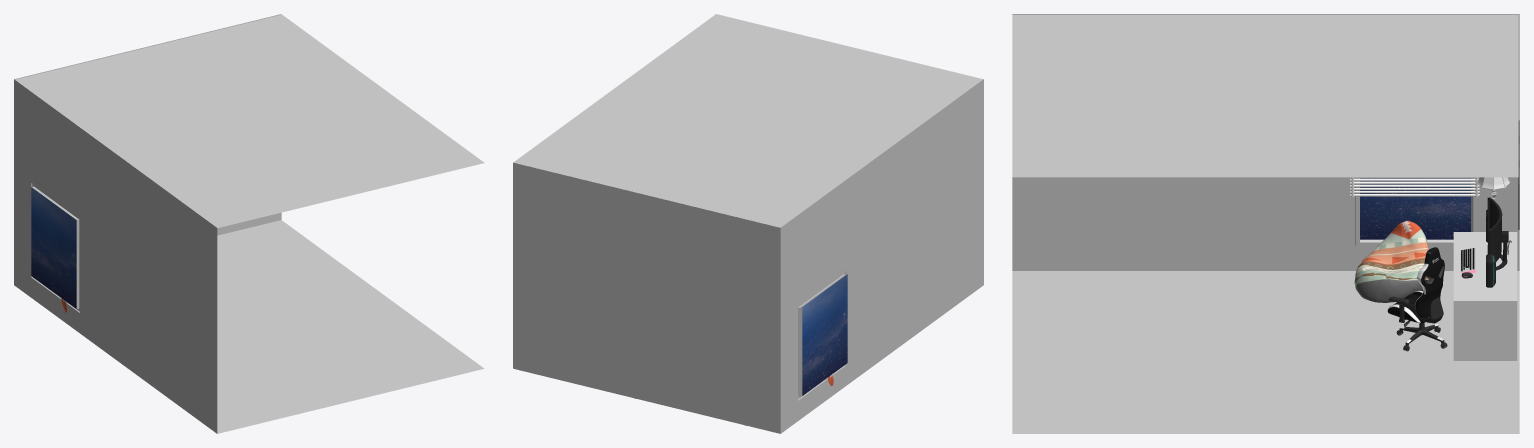
File: home_setup-transformed.glb
The picture shows the model from 3 angles, left to right: view 1: azimuth 30°, elevation 25°; view 2: azimuth 150°, elevation 25°; view 3: azimuth 270°, elevation 25°; orthographic projection. The views are drawn at different scales.
Visible parts, largest first — view 1: BUILDING_lambert1_0, BUILDING_GLASS_0; view 2: BUILDING_lambert1_0, BUILDING_GLASS_0; view 3: BUILDING_lambert1_0, BUILDING_GLASS_0, BEAN BAG.001_Goi_0, GAMING CHAIR_GAMING CHAIR_0.
Part boxes in pixels (x1,y1,x2,y2): BUILDING_lambert1_0: (14, 14, 484, 433); BUILDING_GLASS_0: (31, 187, 76, 308); BUILDING_lambert1_0: (513, 14, 983, 433); BUILDING_GLASS_0: (802, 274, 847, 395); BUILDING_lambert1_0: (1012, 14, 1519, 433); BUILDING_GLASS_0: (1360, 178, 1470, 239); BEAN BAG.001_Goi_0: (1354, 220, 1428, 302); GAMING CHAIR_GAMING CHAIR_0: (1387, 247, 1447, 351).
Bounding box in the file's own units: 5.38 × 3.96 × 7.01.
Materials: 10 (10 with a texture image).
